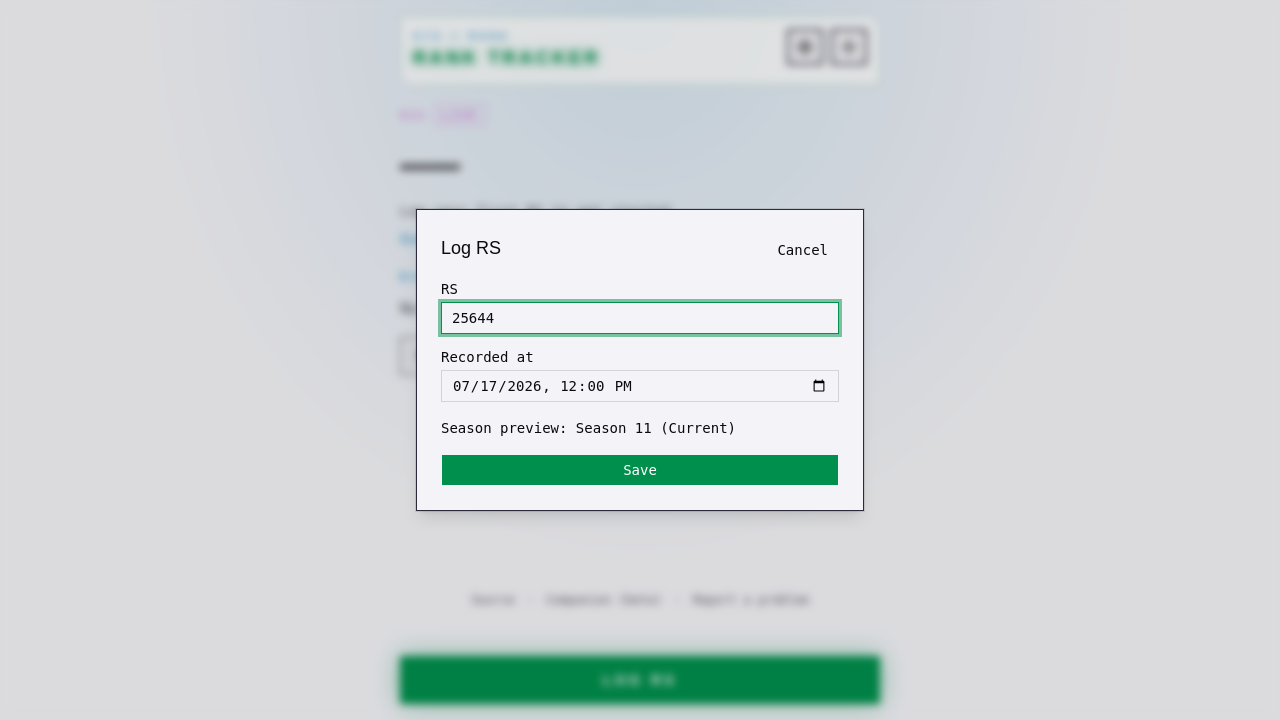
saving companion-prefilled Log RS clears the proposal
The width and height of the screenshot is (1280, 720).
Check: the dialog "Log RS" is shown, box [416,209,864,511]
Click the button "Save" at [640, 470], box [441,454,839,486]
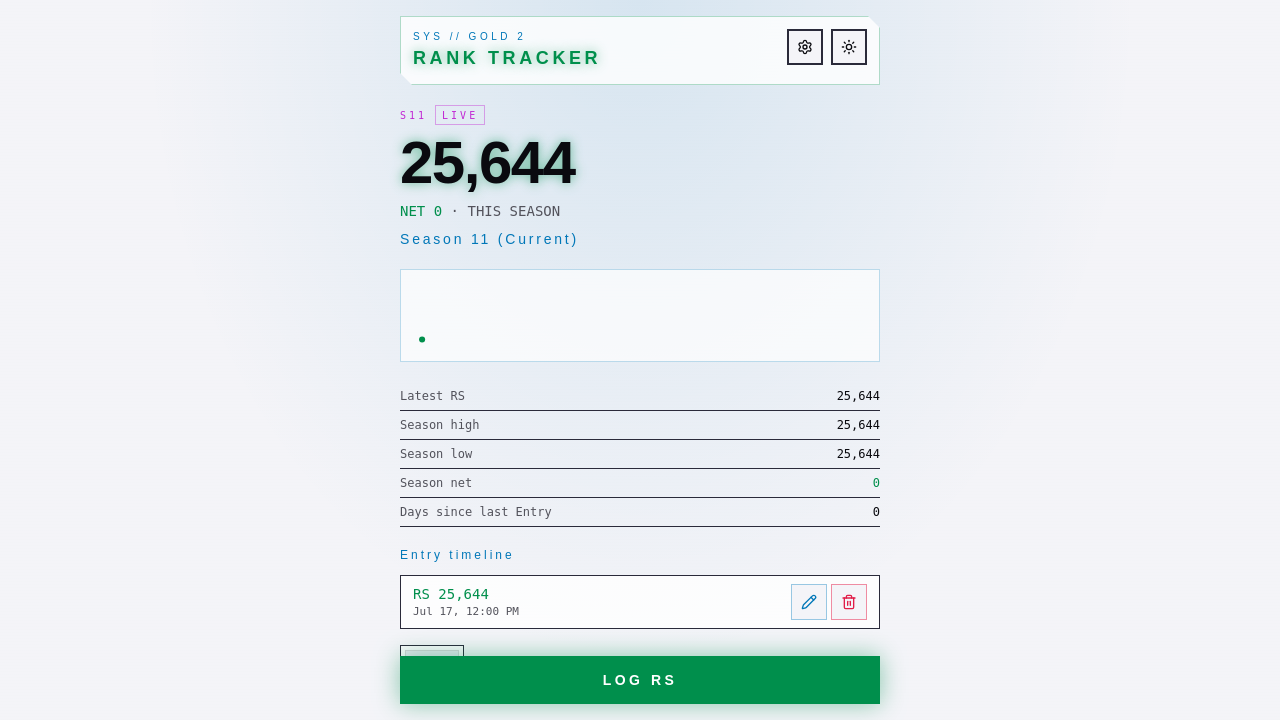
Check: the element named "Season hero" shows "25,644", box [400,129,574,196]
